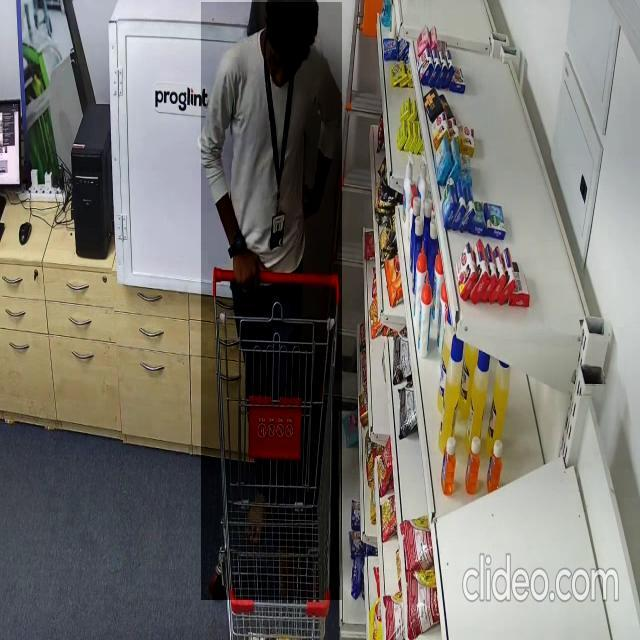Shoplifting: (201, 2, 342, 600)
